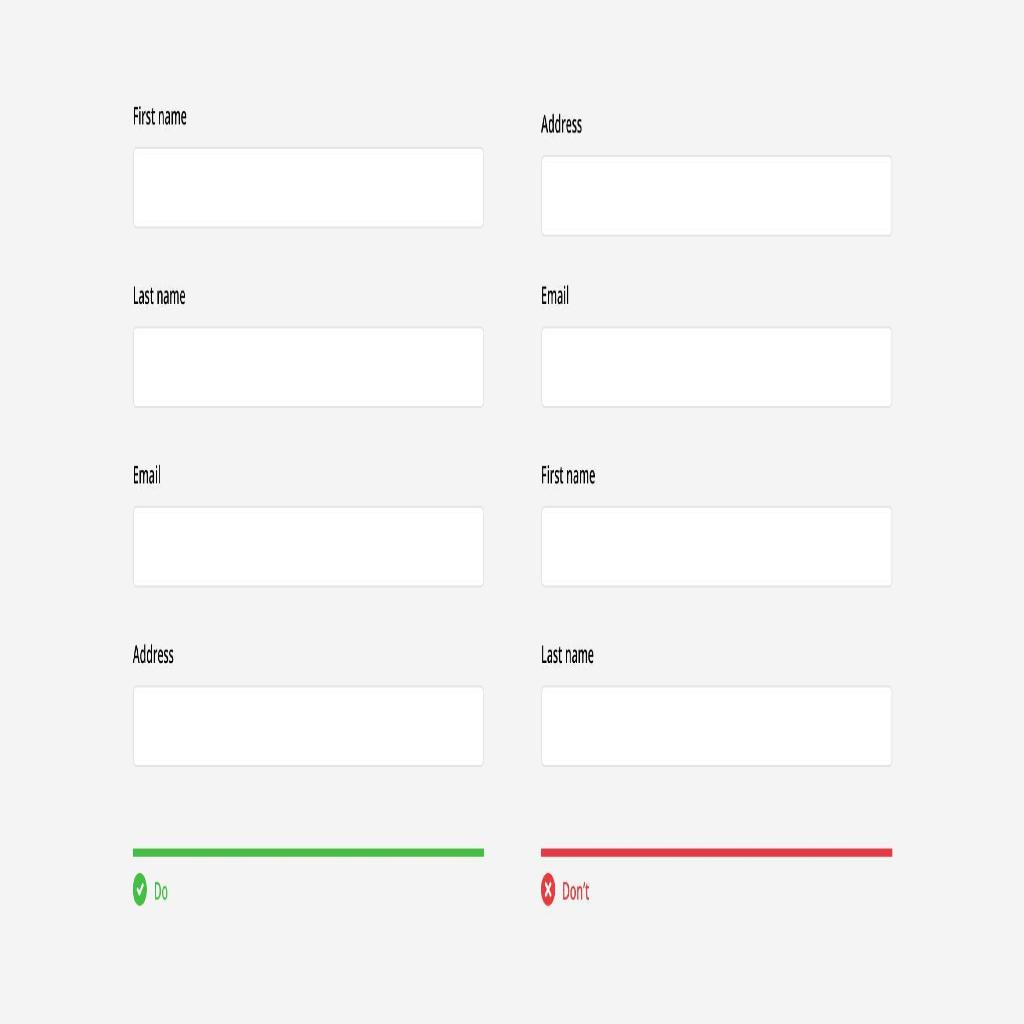input: (131, 502, 486, 598), (130, 317, 486, 411), (539, 684, 894, 776), (540, 500, 894, 592), (131, 142, 487, 232), (539, 327, 893, 414), (132, 684, 484, 768), (540, 156, 892, 239)
label: (131, 97, 189, 131), (542, 458, 595, 491), (132, 279, 187, 309), (538, 640, 594, 669), (133, 636, 174, 669), (539, 112, 584, 139), (131, 454, 163, 488), (540, 275, 569, 310)
